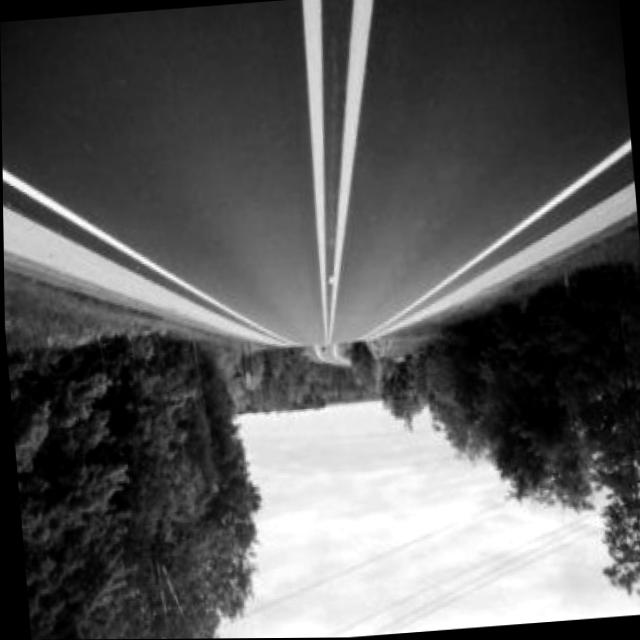cleat: (84, 0, 640, 460)
